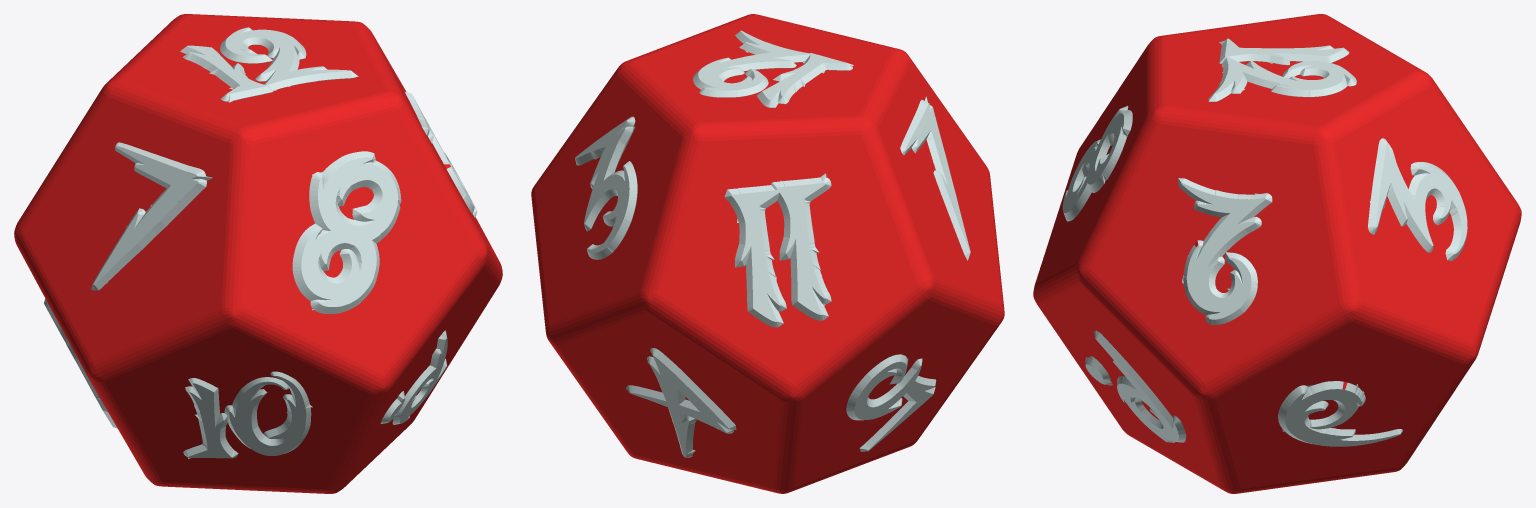
File: D12_3D_Red.glb
3 renders of one model, left to right at view 1: azimuth 30°, elevation 25°; view 2: azimuth 150°, elevation 25°; view 3: azimuth 270°, elevation 25°, orthographic. The views are drawn at different scales.
Parts seen in each view (by area): view 1: d12; view 2: d12; view 3: d12.
Boxes of the visible parts, box(x1,y1,x2,y2) form: d12: box(14, 14, 502, 493); d12: box(531, 14, 1004, 493); d12: box(1033, 14, 1521, 493).
Size of the model in its own units: 1.67 by 1.49 by 1.75.
